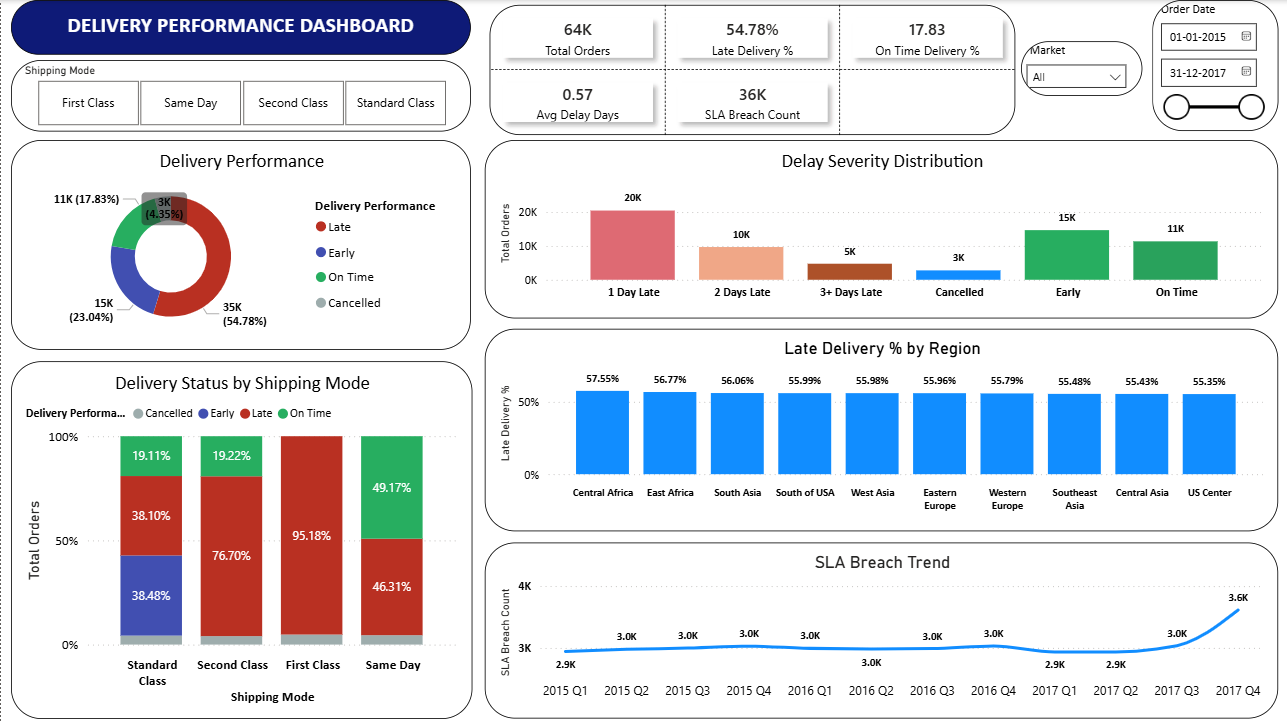

This screenshot's page, from the dashboard's own definition file:
{"tool":"powerbi","page":{"name":"Page 1","canvas":[1280,720],"ordinal":0},"visuals":[{"type":"cardVisual","fields":{"Data":["DAX Column.Total Orders","DAX Column.Late Delivery %","DAX Column.On Time Delivery %","DAX Column.Avg Delay Days","DAX Column.SLA Breach Count"]},"box":[481.4,0,533.7,139.3],"z":0},{"type":"donutChart","title":"Delivery Performance","fields":{"Y":["DAX Column.Total Orders"],"Category":["Dataset.Delivery Performance"]},"box":[10,139.3,457.8,209],"z":1000},{"type":"clusteredColumnChart","title":"Delay Severity Distribution","fields":{"Category":["Dataset.Delay Severity"],"Y":["DAX Column.Total Orders"]},"box":[481.4,139.3,789.9,177.9],"z":2000},{"type":"clusteredColumnChart","title":"Late Delivery % by Region","fields":{"Y":["DAX Column.Late Delivery %"],"Category":["Dataset.Order Region"]},"box":[481.4,327.2,789.9,201.5],"z":3000},{"type":"lineChart","title":"SLA Breach Trend","fields":{"Category":["Dataset.Year Quarter"],"Y":["DAX Column.SLA Breach Count"]},"box":[481.4,539.9,789.9,175.4],"z":4000},{"type":"slicer","fields":{"Values":["Dataset.Shipping Mode"]},"box":[10,59.7,457.8,71],"z":5000},{"type":"slicer","fields":{"Values":["Dataset.Market"]},"box":[1015.1,41.1,120.7,54.7],"z":6000},{"type":"slicer","fields":{"Values":["Dataset.Order Date"]},"box":[1145.7,0,125.6,130.6],"z":7000},{"type":"hundredPercentStackedColumnChart","title":"Delivery Status by Shipping Mode ","fields":{"Category":["Dataset.Shipping Mode"],"Series":["Dataset.Delivery Performance"],"Y":["DAX Column.Total Orders"]},"box":[10,359.5,459,355.8],"z":8000},{"type":"textbox","box":[10,0,457.8,54.7],"z":9000}]}

Visuals, with their boxes in screenshot pixels (x1, y1, x2, y2), scaled from the page's 1280x720 canvas onto the 1287x721 screenshot:
cardVisual - DAX Column.Total Orders x DAX Column.Late Delivery %: (x1=484, y1=0, x2=1021, y2=139)
"Delivery Performance" donutChart: (x1=10, y1=139, x2=470, y2=349)
"Delay Severity Distribution" clusteredColumnChart: (x1=484, y1=139, x2=1278, y2=318)
"Late Delivery % by Region" clusteredColumnChart: (x1=484, y1=328, x2=1278, y2=529)
"SLA Breach Trend" lineChart: (x1=484, y1=541, x2=1278, y2=716)
slicer - Dataset.Shipping Mode: (x1=10, y1=60, x2=470, y2=131)
slicer - Dataset.Market: (x1=1021, y1=41, x2=1142, y2=96)
slicer - Dataset.Order Date: (x1=1152, y1=0, x2=1278, y2=131)
"Delivery Status by Shipping Mode " hundredPercentStackedColumnChart: (x1=10, y1=360, x2=472, y2=716)
textbox: (x1=10, y1=0, x2=470, y2=55)
